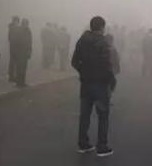person: (71, 15, 118, 157), (17, 15, 34, 88), (7, 15, 21, 84), (39, 21, 58, 71), (115, 26, 130, 75), (56, 25, 71, 73), (104, 33, 121, 75), (141, 28, 152, 77)
